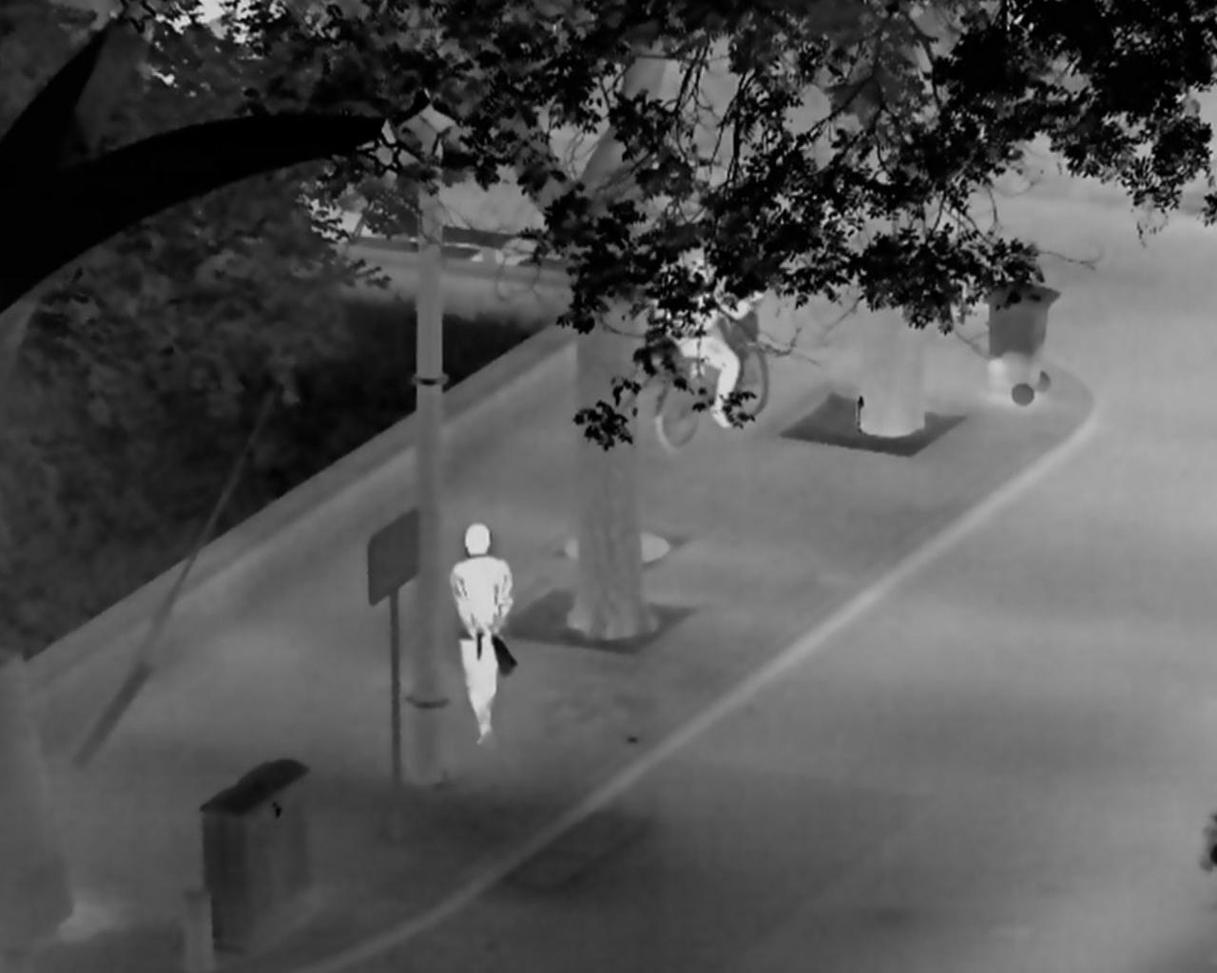person: (653, 244, 763, 429), (447, 522, 514, 745)
